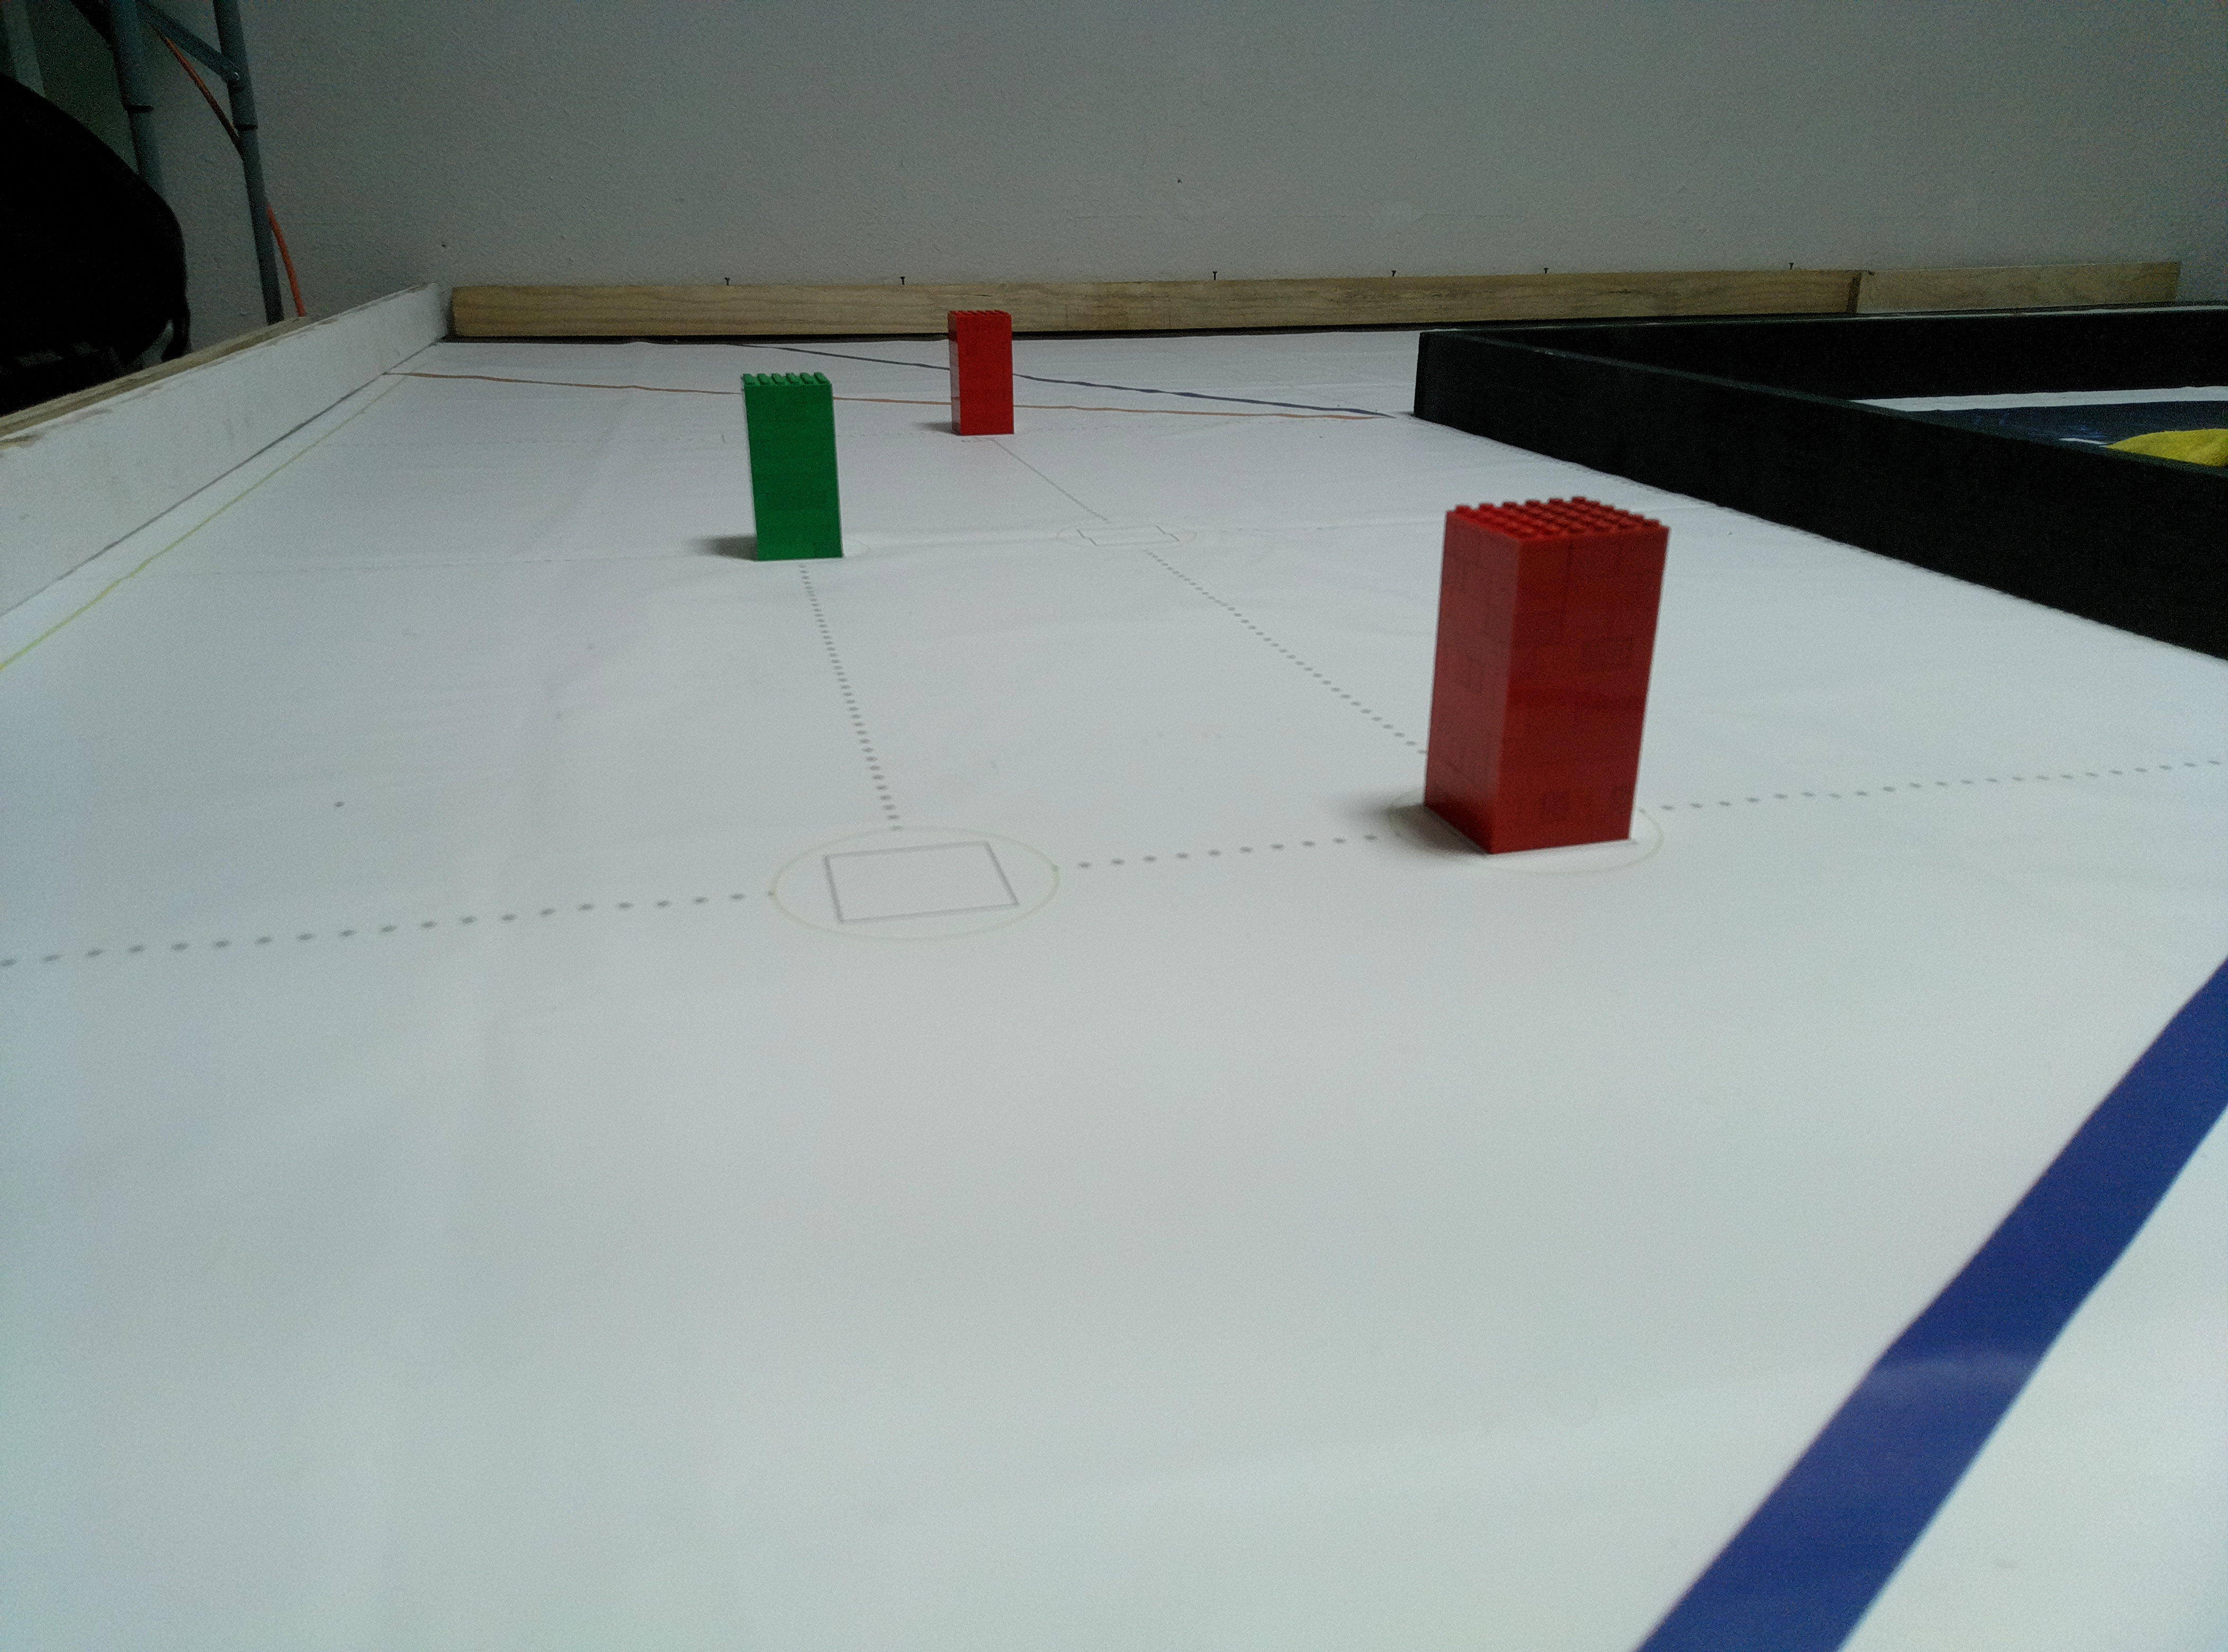greenbox: (737, 368, 845, 562)
redbox: (1416, 486, 1668, 857), (946, 309, 1015, 437)
